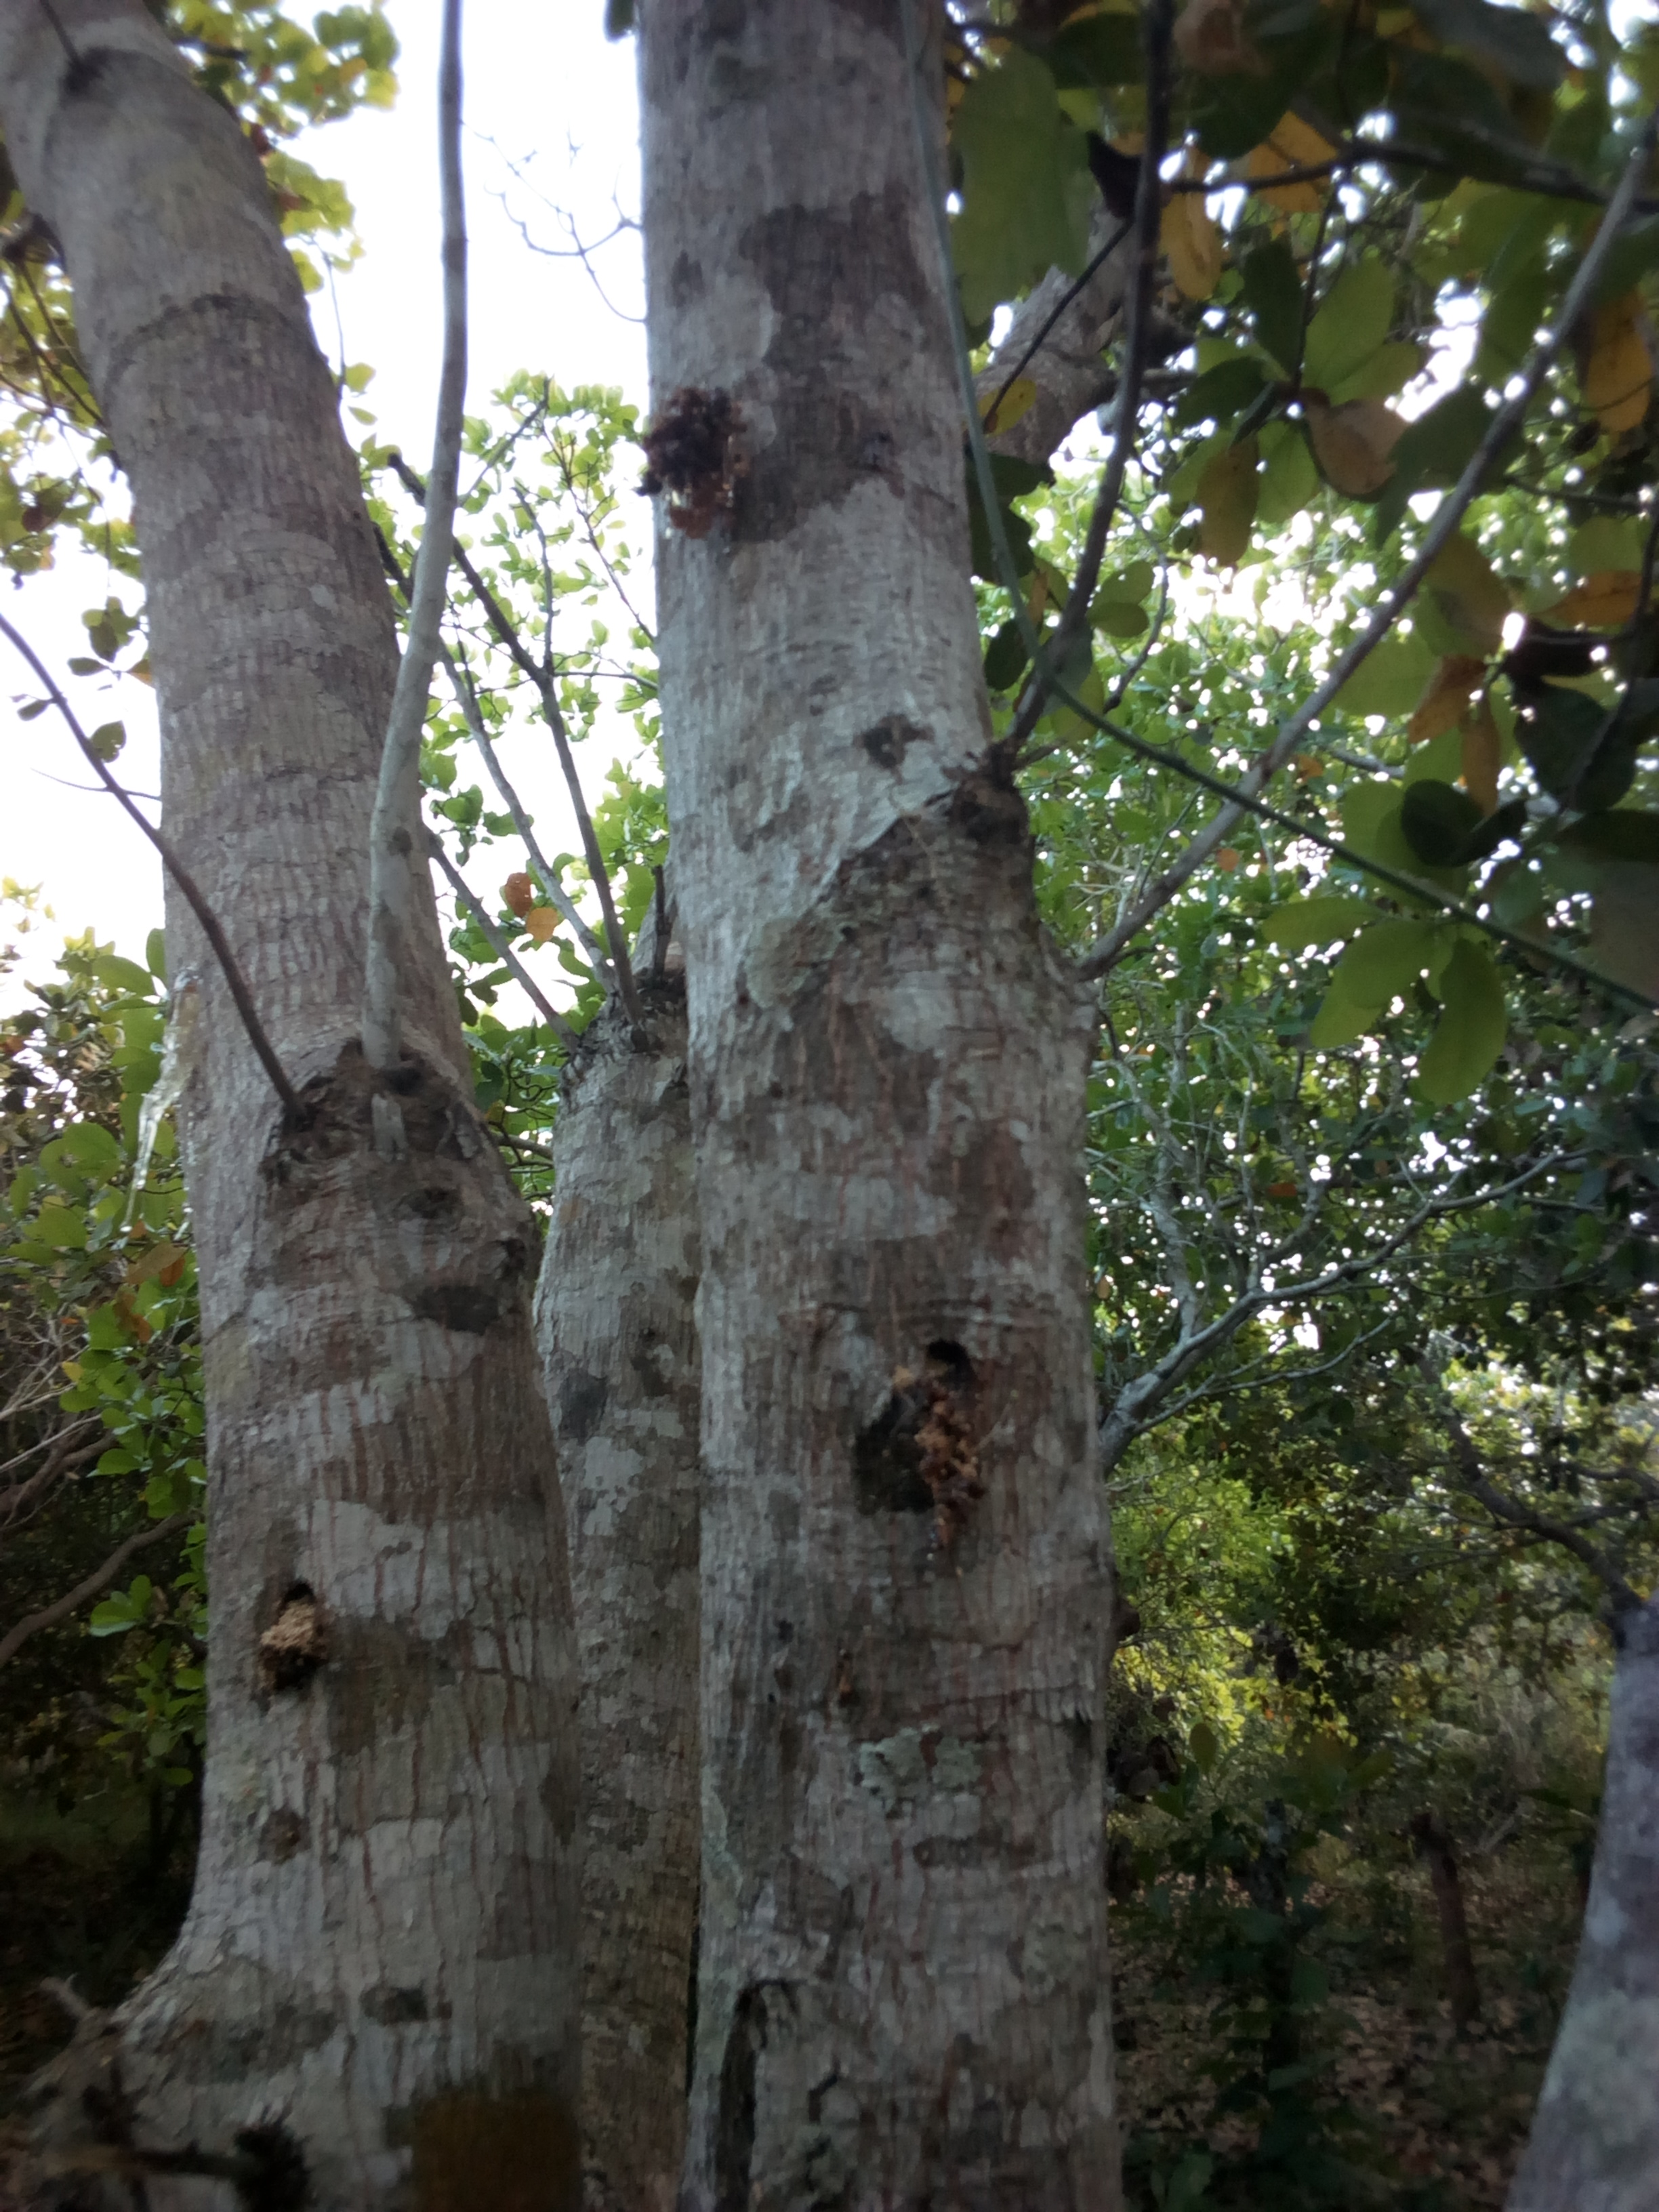Apate terebrans: (769, 1320, 1087, 1590)
